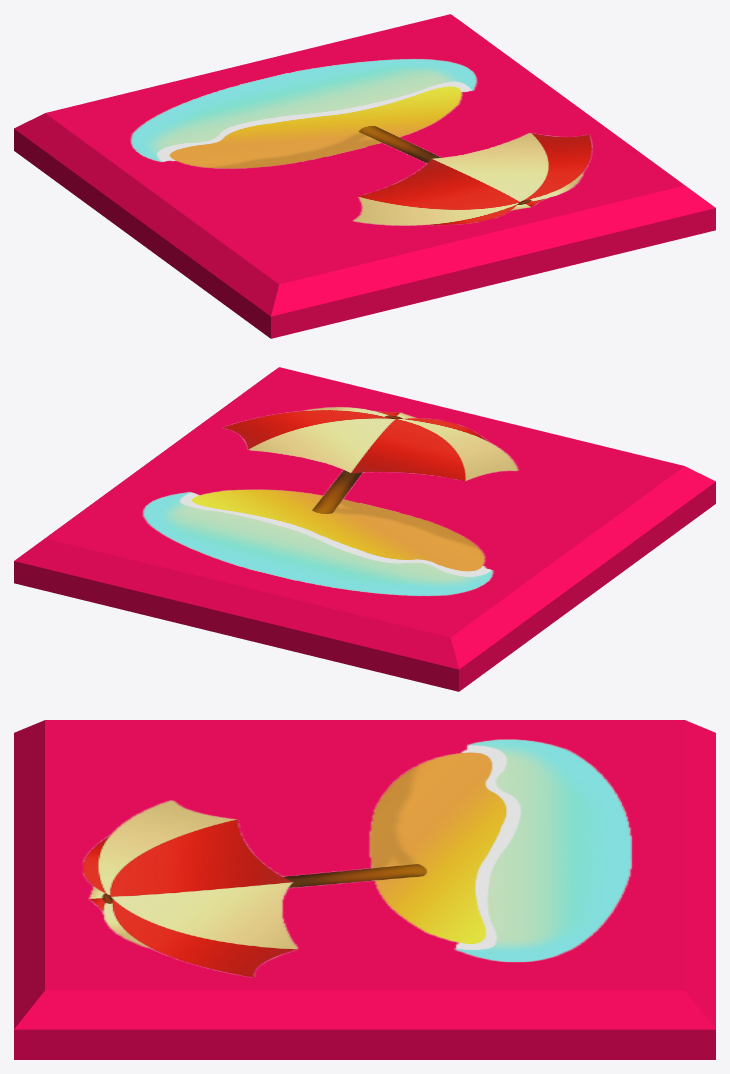
The model's file is Tile_Relax.fbx.
3 views of the same model, one above another, from view 1: azimuth 30°, elevation 25°; view 2: azimuth 150°, elevation 25°; view 3: azimuth 270°, elevation 25° (orthographic). The views are drawn at different scales.
Parts seen in each view (by area): view 1: Cube; view 2: Cube; view 3: Cube.
Part boxes in pixels (x1,y1,x2,y2): Cube: [14, 14, 715, 338]; Cube: [14, 367, 715, 691]; Cube: [14, 720, 715, 1059].
Size of the model in its own units: 200 by 17.71 by 200.
Materials: 2 (1 with a texture image).
